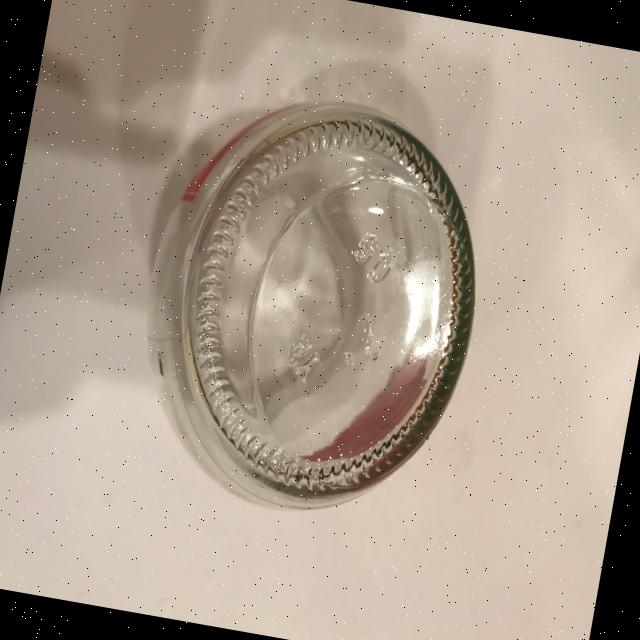glass: (110, 70, 508, 538)
